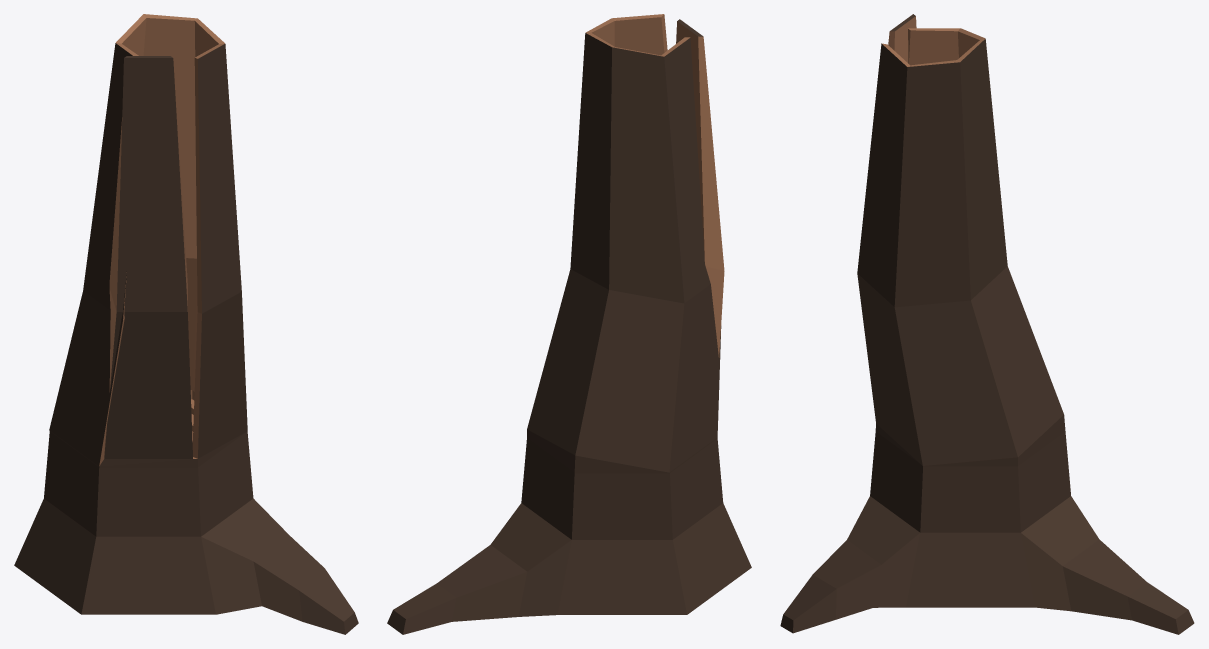
File: Arvore.fbx
3 views of the same model, side by side, from view 1: azimuth 30°, elevation 25°; view 2: azimuth 150°, elevation 25°; view 3: azimuth 270°, elevation 25° (orthographic). The views are drawn at different scales.
Visible parts, largest first — view 1: Arvore.009; view 2: Arvore.009; view 3: Arvore.009.
Boxes of the visible parts, box(x1,y1,x2,y2) form: Arvore.009: box(14, 14, 358, 634); Arvore.009: box(387, 14, 751, 634); Arvore.009: box(780, 14, 1194, 634).
Bounding box in the file's own units: 59.49 × 136 × 93.98.
